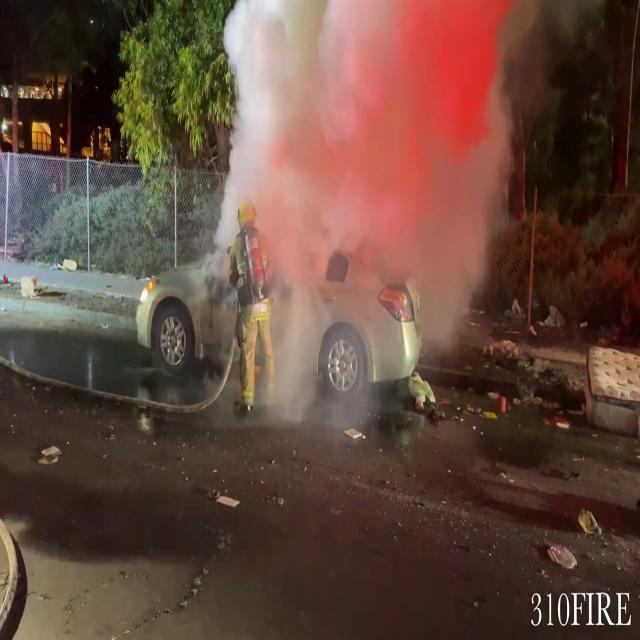Smoke: (212, 0, 522, 399)
